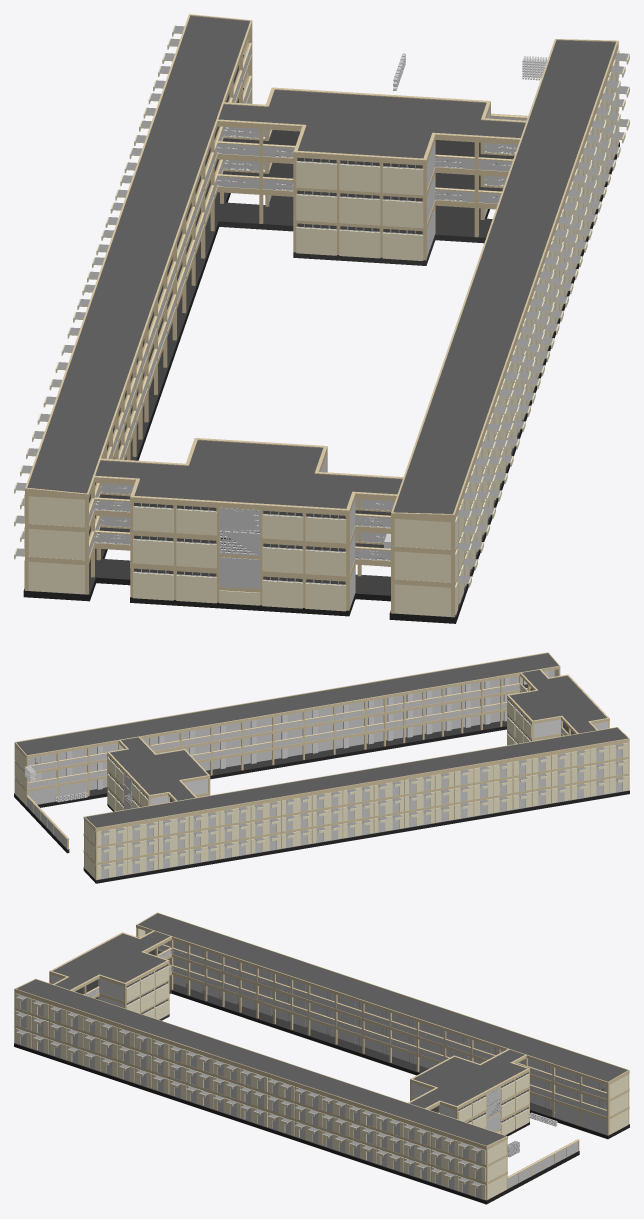
File: Hostel.fbx
3 renders of one model, top to bottom at view 1: azimuth 30°, elevation 25°; view 2: azimuth 150°, elevation 25°; view 3: azimuth 270°, elevation 25°, orthographic. The views are drawn at different scales.
Visible parts, largest first — view 1: Cube.012, Cube.037, Cube.001, Cube.031; view 2: Cube.012, Cube.031, Cube.001, Cube.037, Cube.027, Cube; view 3: Cube.012, Cube.001, Cube.037, Cube.031, Cube.
Boxes of the visible parts, box(x1,y1,x2,y2) form: Cube.012: box(14, 16, 629, 623); Cube.037: box(94, 438, 403, 616); Cube.001: box(217, 87, 526, 265); Cube.031: box(25, 14, 618, 522); Cube.012: box(14, 653, 629, 883); Cube.031: box(14, 652, 629, 831); Cube.001: box(107, 737, 210, 811); Cube.037: box(507, 669, 609, 745); Cube.027: box(36, 671, 548, 789); Cube: box(14, 793, 69, 853); Cube.012: box(14, 913, 629, 1203); Cube.001: box(408, 1049, 529, 1136); Cube.037: box(49, 930, 171, 1020); Cube.031: box(14, 912, 629, 1150); Cube: box(484, 1139, 579, 1204).
Size of the model in its own units: 6639 by 762 by 7350.
